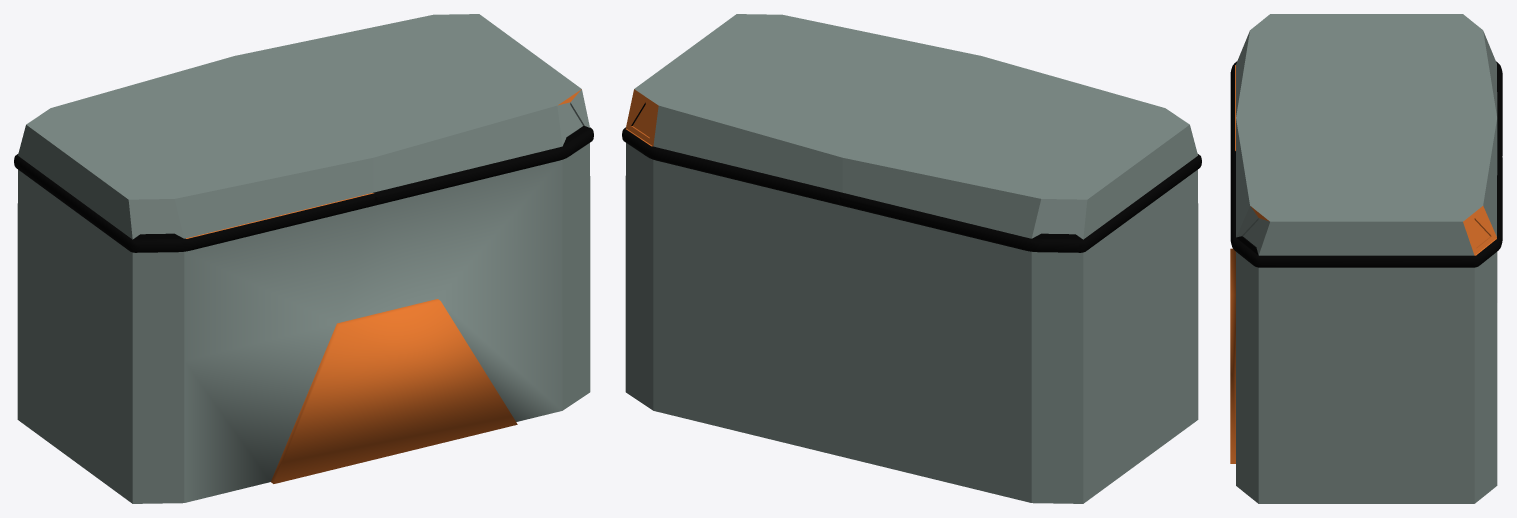
Rendered from arena_box_1.glb.
3 renders of one model, left to right at view 1: azimuth 30°, elevation 25°; view 2: azimuth 150°, elevation 25°; view 3: azimuth 270°, elevation 25°, orthographic. The views are drawn at different scales.
Parts seen in each view (by area): view 1: Cube.001; view 2: Cube.001; view 3: Cube.001.
Boxes of the visible parts, x1=… form: Cube.001: x1=14, y1=14, x2=593, y2=503; Cube.001: x1=622, y1=14, x2=1201, y2=503; Cube.001: x1=1230, y1=14, x2=1502, y2=503.
Bounding box in the file's own units: 4.85 × 2.98 × 2.62.
